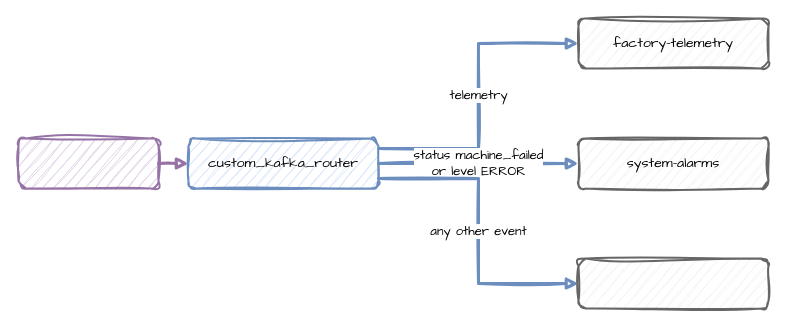
Some shapes in this 786 by 326 pixel diagram are drawn without their labels. The centre of each missing label's shape, as x and y in pixels:
"factory-events" belongs at point (673, 283).
"KafkaEgress" belongs at point (88, 163).
